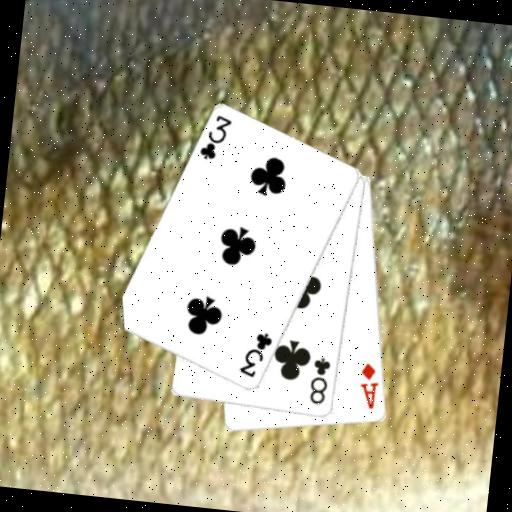3C: (235, 328, 275, 382), (196, 110, 235, 164)
8C: (306, 355, 334, 408)
AD: (355, 359, 383, 412)
